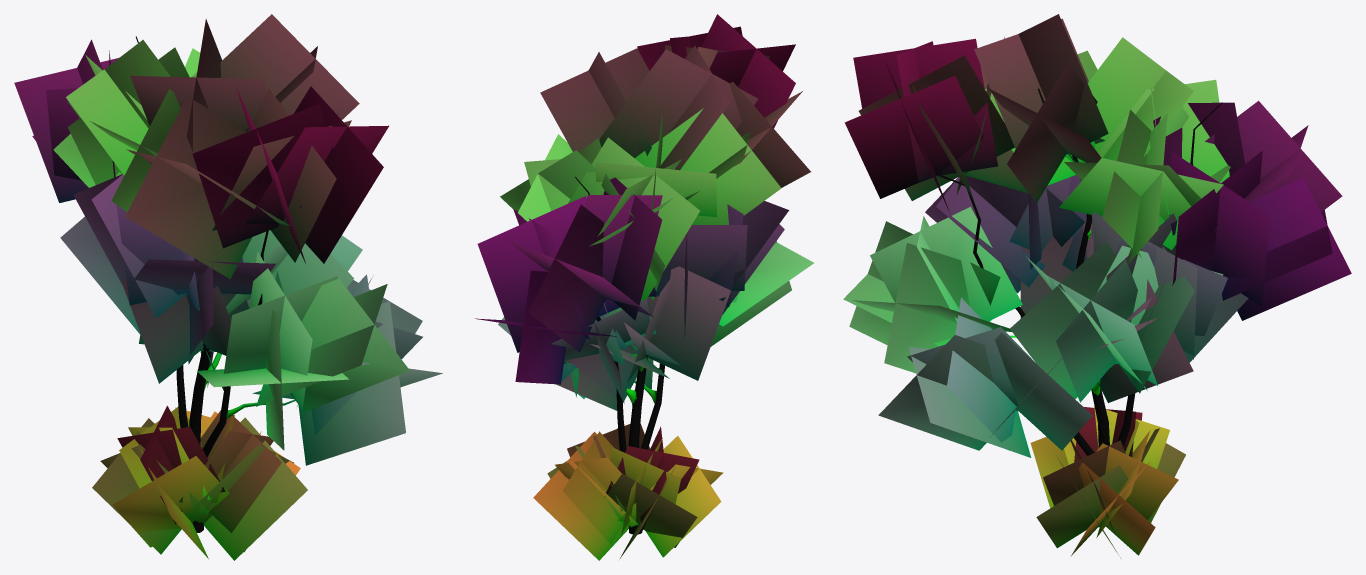
File: M_P12_Tree_11.fbx
The picture shows the model from 3 angles, left to right: view 1: azimuth 30°, elevation 25°; view 2: azimuth 150°, elevation 25°; view 3: azimuth 270°, elevation 25°; orthographic projection. The views are drawn at different scales.
Parts seen in each view (by area): view 1: Tree_11; view 2: Tree_11; view 3: Tree_11.
Boxes of the visible parts, box(x1,y1,x2,y2) form: Tree_11: box(14, 14, 442, 560); Tree_11: box(475, 14, 813, 560); Tree_11: box(843, 14, 1351, 557).
Size of the model in its own units: 178 by 302 by 264.
